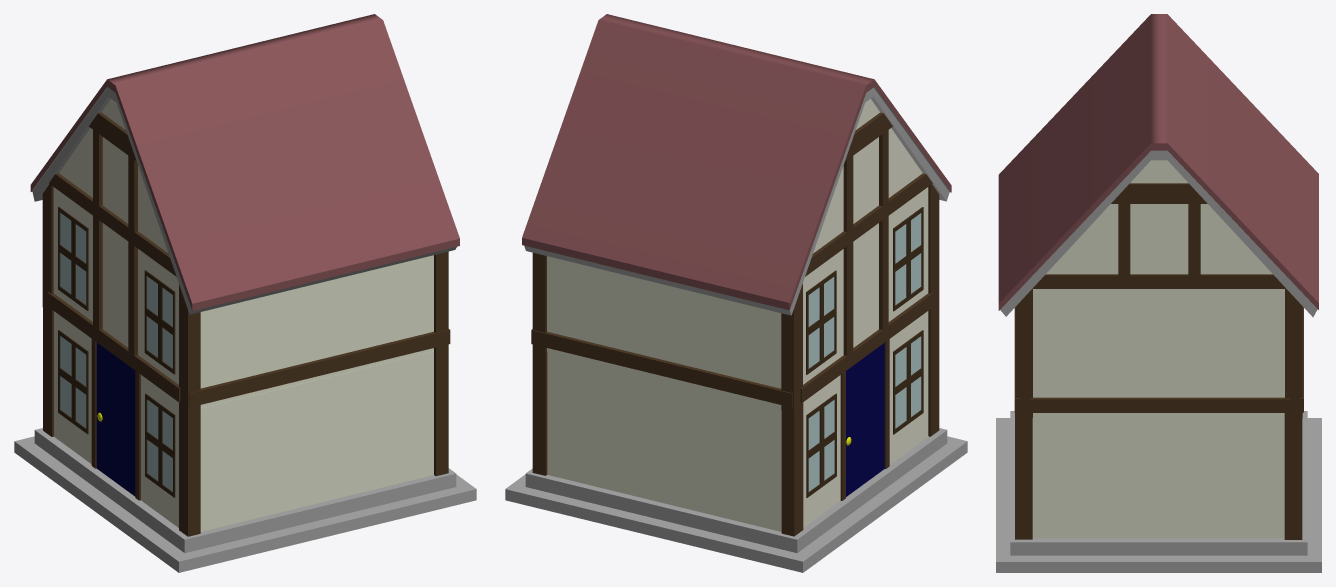
The model's file is houseLevel3.fbx.
3 views of the same model, side by side, from view 1: azimuth 30°, elevation 25°; view 2: azimuth 150°, elevation 25°; view 3: azimuth 270°, elevation 25° (orthographic).
Visible parts, largest first — view 1: polySurface58; view 2: polySurface58; view 3: polySurface58.
Part boxes in pixels (bbox=[...]): polySurface58: bbox=[14, 14, 476, 572]; polySurface58: bbox=[505, 14, 967, 572]; polySurface58: bbox=[996, 14, 1321, 572].
Size of the model in its own units: 6.57 by 9 by 6.29.
